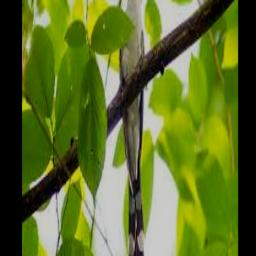Cuckoo: (120, 0, 156, 256)
